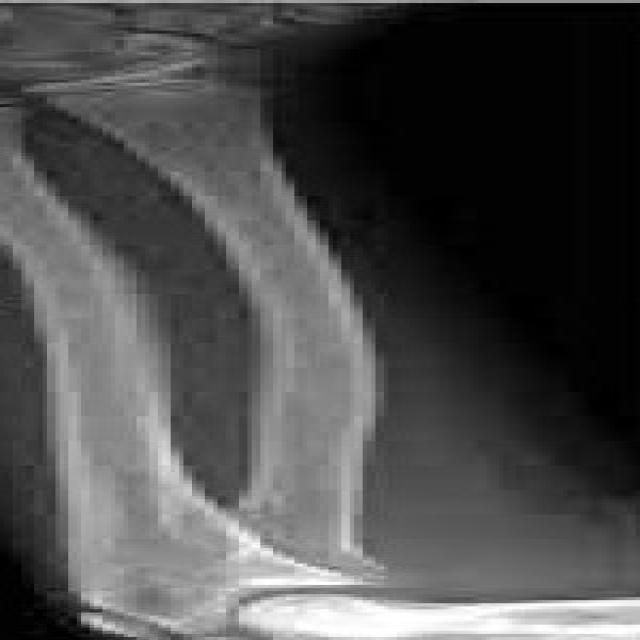Greenstick: (16, 260, 349, 355)
